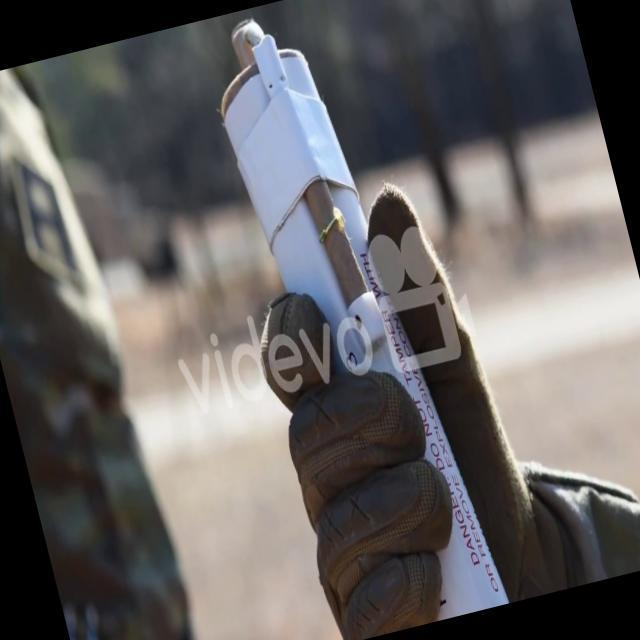grenade: (197, 0, 509, 639)
